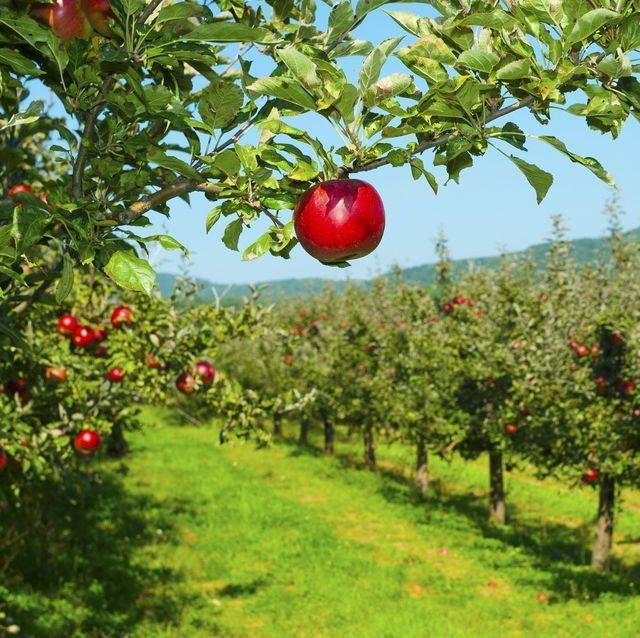apple: (291, 178, 384, 264)
